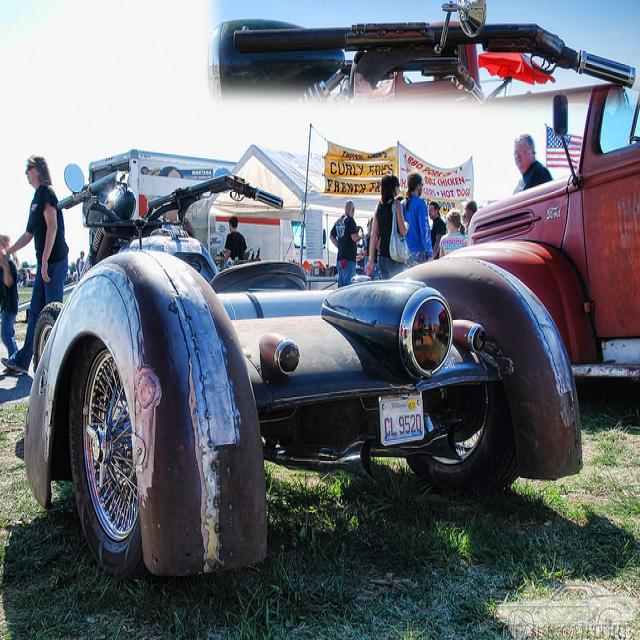motor: (20, 161, 596, 575)
